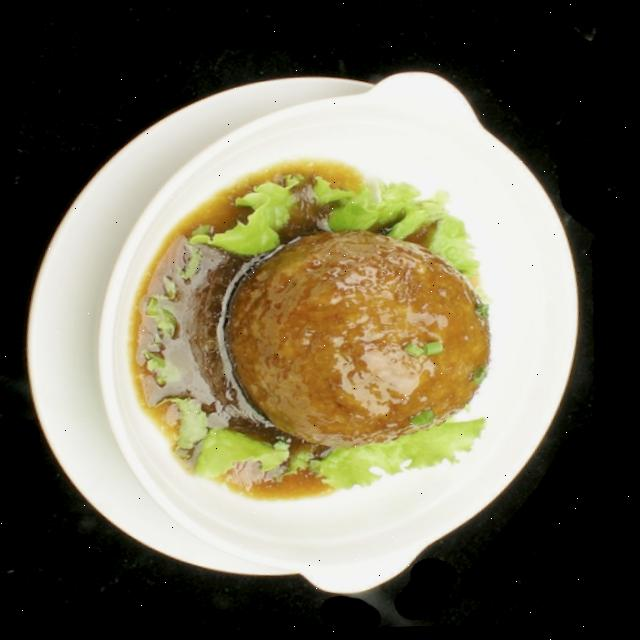猪肉菜式: (0, 11, 639, 639)
